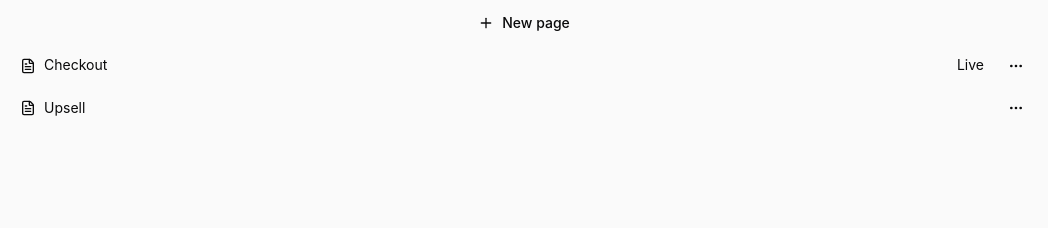
Test: PagesPanel › duplicating › says so when a page cannot be copied
The width and height of the screenshot is (1048, 228).
What coordinates should you click on to do the following:
click the button named "Actions for Checkout"
I would click on:
 (1016, 66)
Its box is [996, 58, 1036, 74].
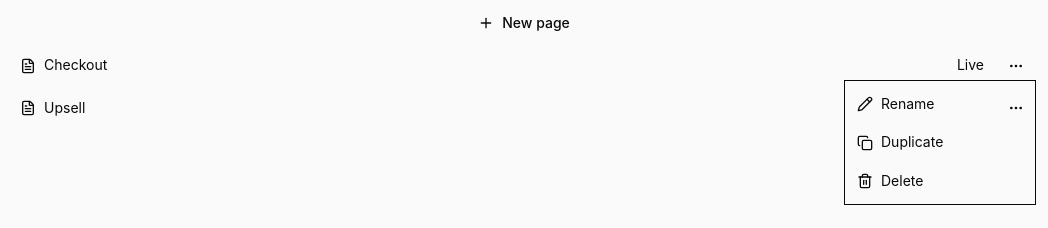
What coordinates should you click on to do the following:
click the menu item "Duplicate"
I would click on:
 (900, 143)
Its box is [857, 131, 943, 155].
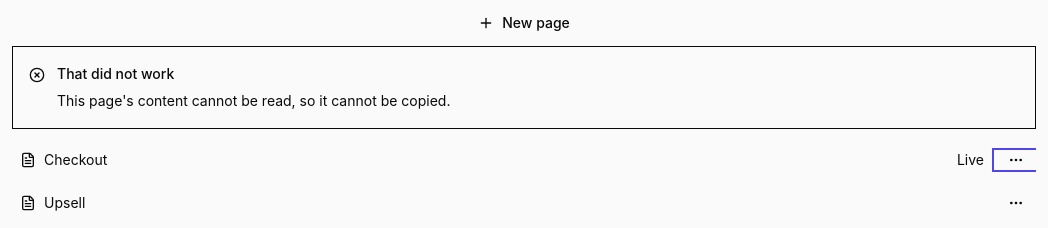
Expected: the text "This page's content cannot be read, so it cannot be copied." is shown, [57, 92, 450, 109]
